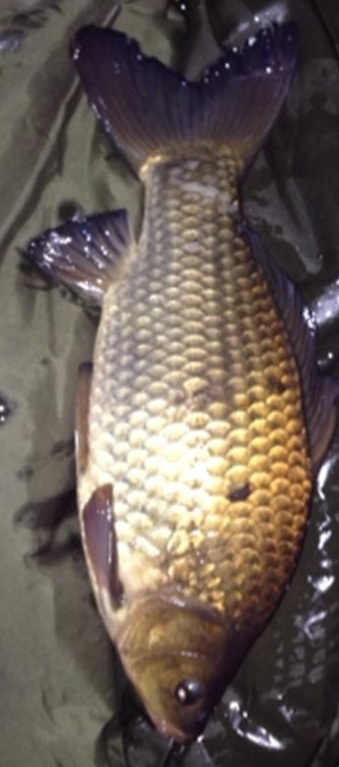Carassius carassius: (20, 20, 319, 747)
